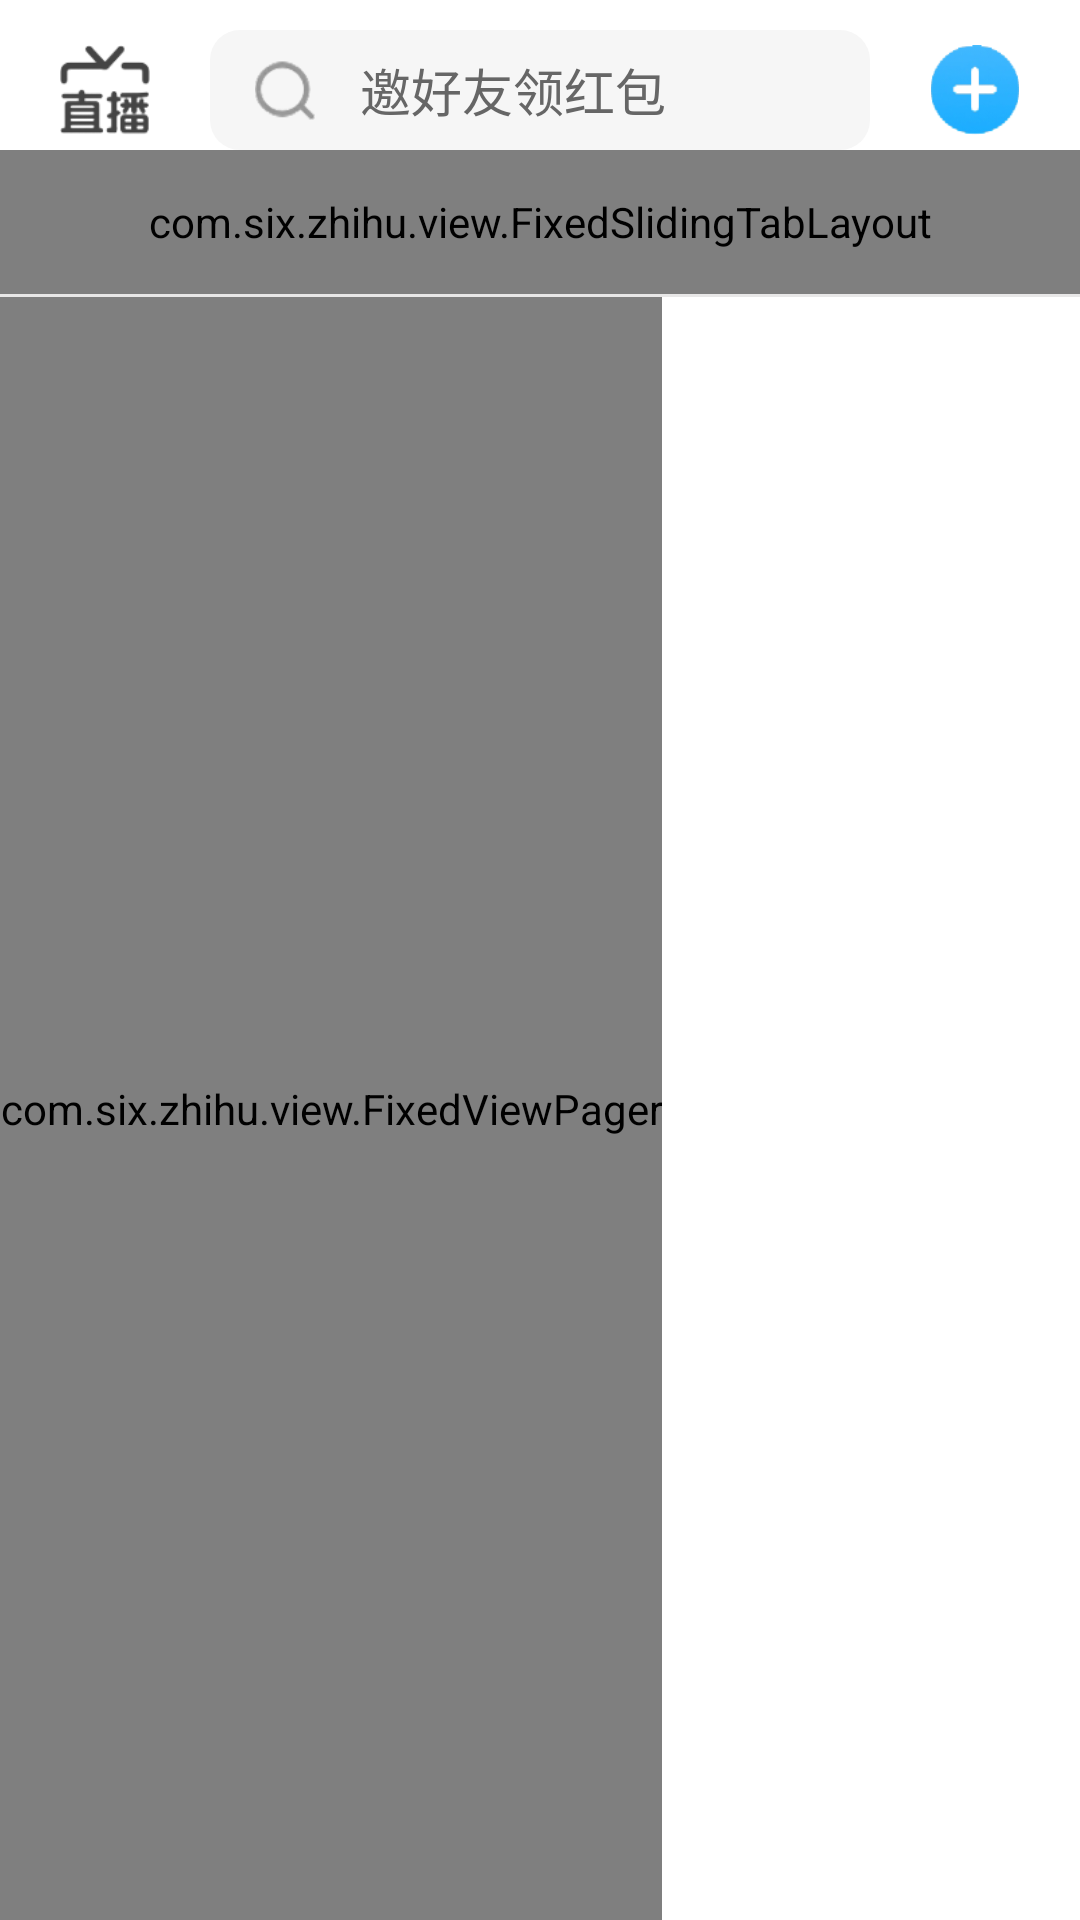

Icon bounding boxes for this 1080w x 1920h phone screenshot, format (x1,y1,x2,y2):
add: (931,45,1019,134)
searcher: (255,61,315,120)
